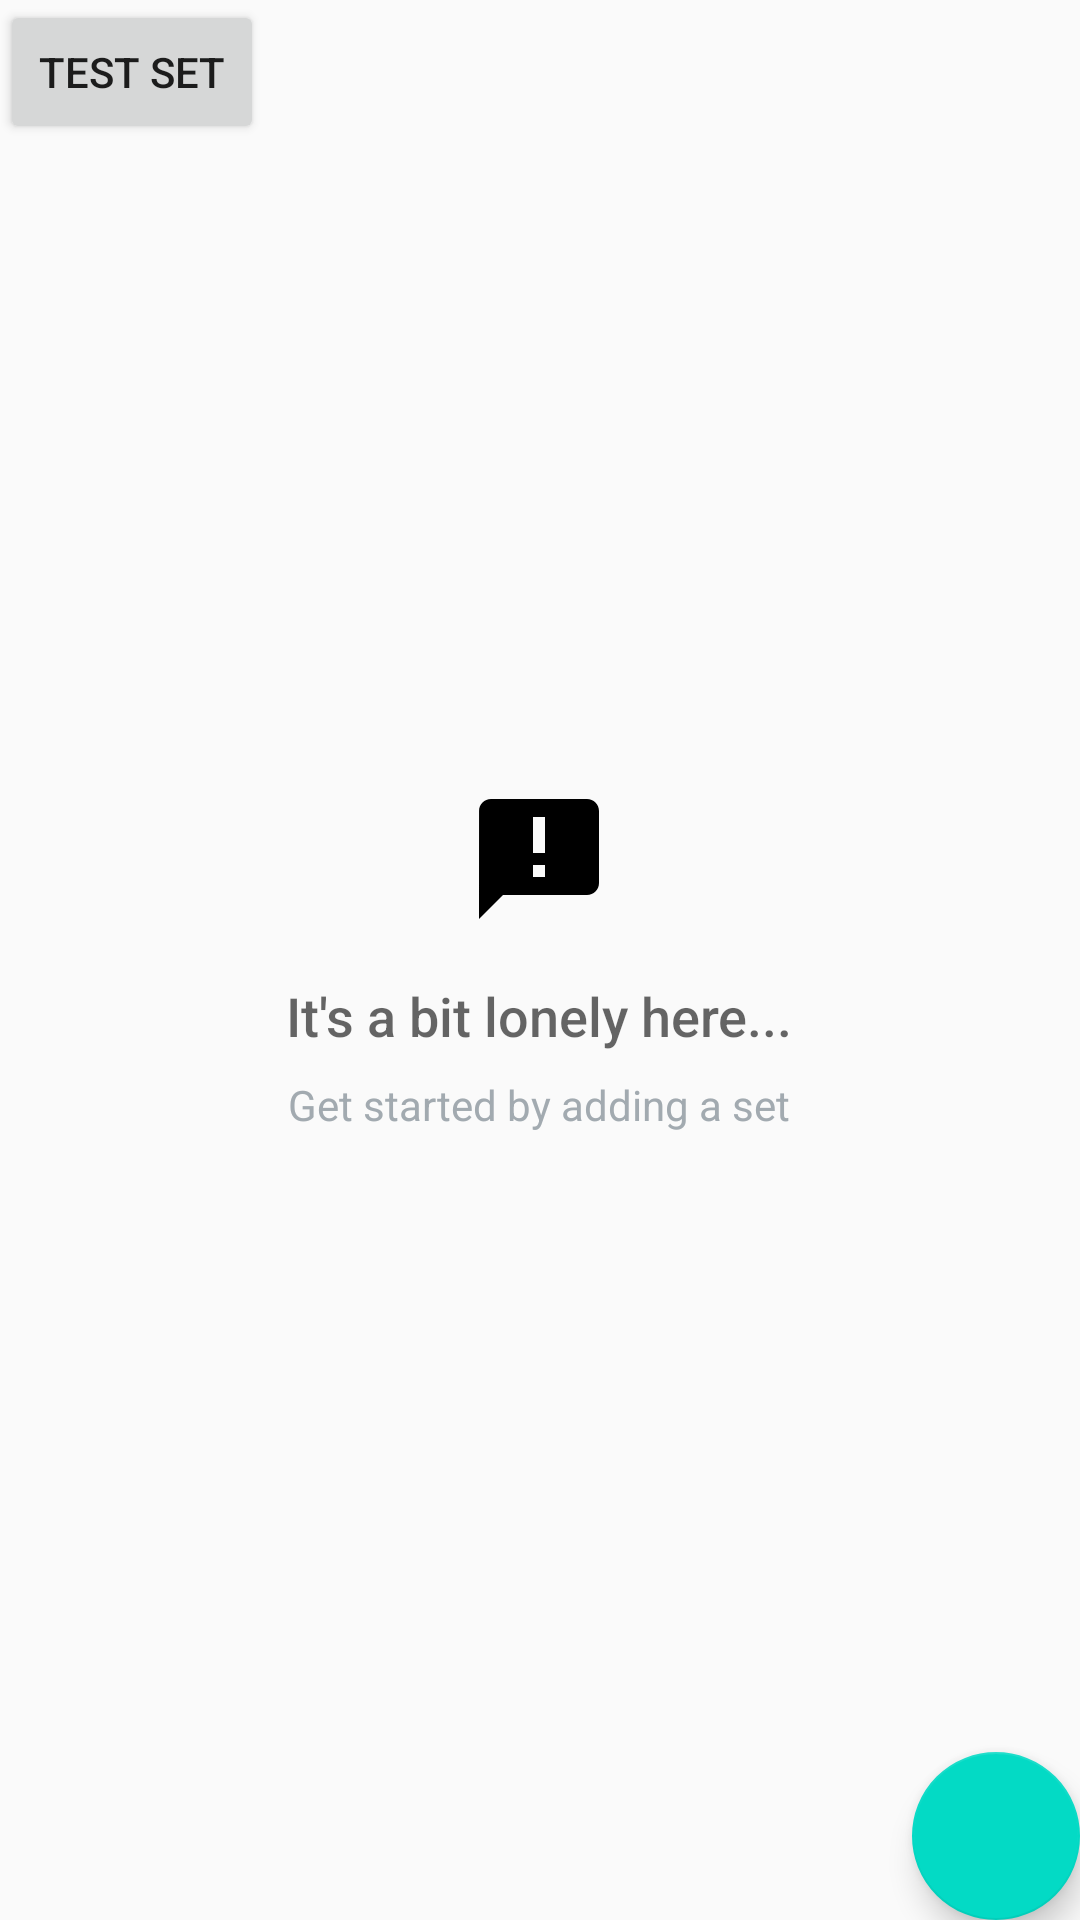

Where to tap for icons on this 1080*1920 app screen, as (x=x, y=y):
announcement: (x=539, y=859)
